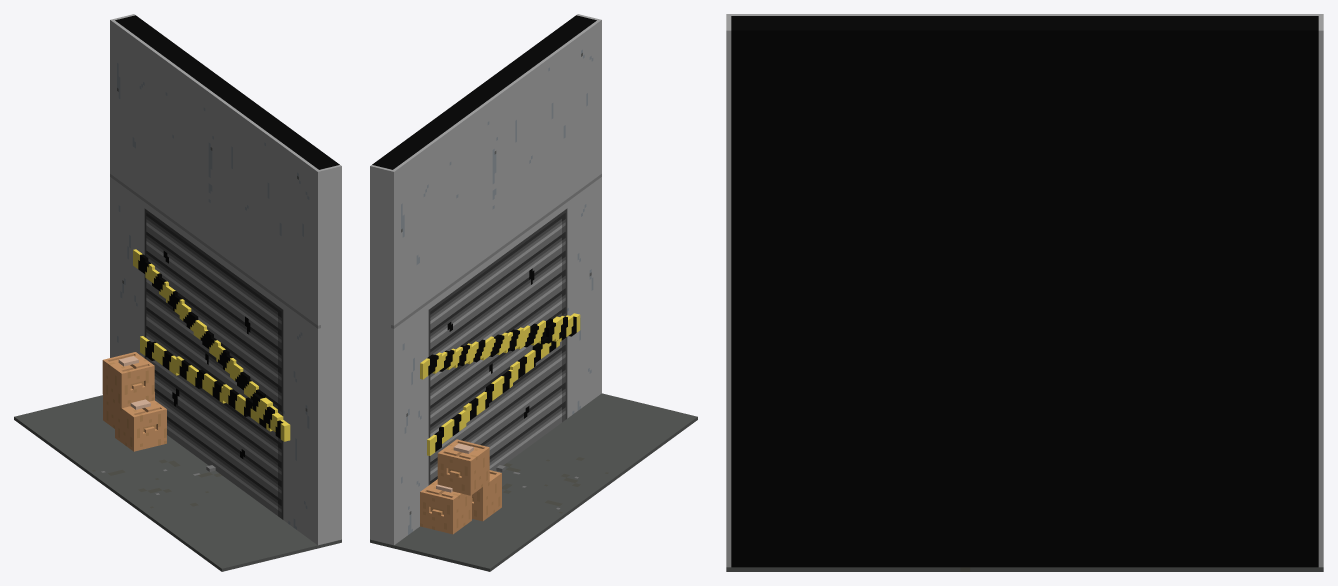
File: Parede_Portao_02.obj
The picture shows the model from 3 angles, left to right: view 1: azimuth 30°, elevation 25°; view 2: azimuth 150°, elevation 25°; view 3: azimuth 270°, elevation 25°; orthographic projection. The views are drawn at different scales.
Bounding box in the file's own units: 40 × 120 × 120.
1 material, 1 textured.
